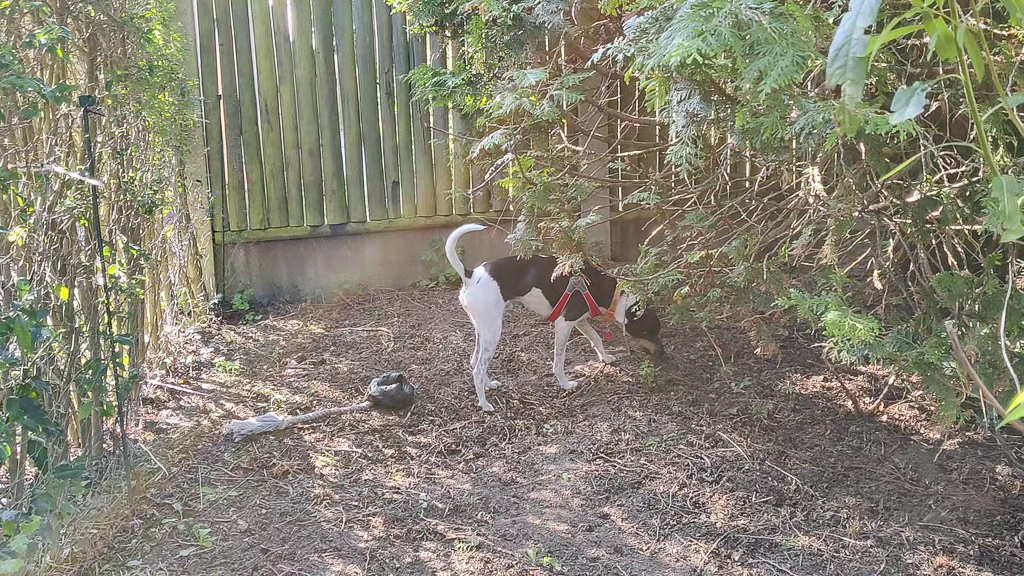Dog: (427, 211, 692, 420)
